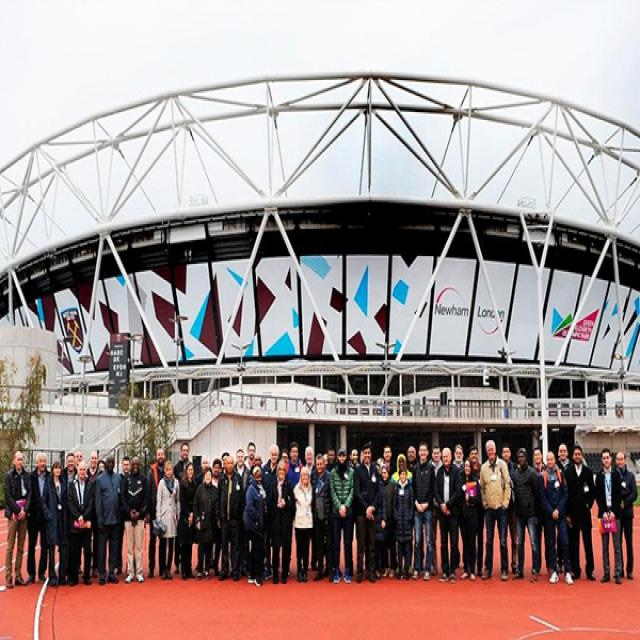body: (478, 437, 511, 584), (562, 442, 596, 582), (593, 444, 625, 586), (536, 448, 570, 581), (92, 451, 124, 587), (213, 453, 246, 584), (408, 438, 438, 582), (120, 452, 152, 586), (433, 443, 463, 584), (64, 458, 96, 587), (351, 440, 379, 586), (24, 450, 54, 586), (3, 450, 32, 590), (512, 446, 542, 580), (150, 456, 182, 581), (266, 458, 296, 586), (40, 459, 70, 587), (329, 446, 356, 584), (610, 448, 637, 581), (241, 464, 269, 589), (454, 454, 481, 582), (389, 452, 415, 578), (191, 466, 219, 582), (289, 464, 315, 584), (144, 445, 167, 579), (177, 459, 202, 581), (260, 442, 282, 580), (309, 453, 332, 584), (391, 462, 416, 580), (229, 448, 251, 581), (531, 445, 553, 576), (500, 442, 520, 578), (193, 453, 216, 571), (466, 443, 485, 581), (172, 440, 191, 574), (554, 442, 572, 574), (115, 454, 134, 578), (429, 442, 445, 578), (303, 444, 319, 574), (86, 448, 100, 579), (209, 458, 224, 578), (61, 451, 79, 499), (244, 451, 265, 490), (382, 443, 398, 475), (243, 438, 258, 472), (287, 442, 303, 472), (324, 444, 339, 474), (451, 442, 466, 471), (348, 446, 362, 471), (405, 445, 417, 472), (380, 464, 391, 488), (221, 449, 230, 474), (75, 449, 84, 468), (96, 458, 106, 475), (278, 448, 289, 462), (321, 451, 329, 467)
